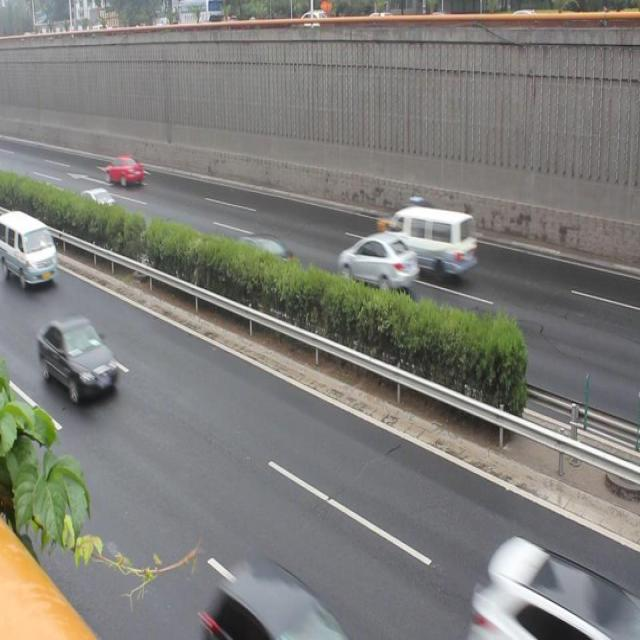car: (482, 532, 640, 640), (39, 316, 119, 401), (339, 226, 418, 299), (228, 224, 300, 288), (77, 185, 118, 222)
truck: (384, 198, 484, 280), (1, 207, 60, 290)
